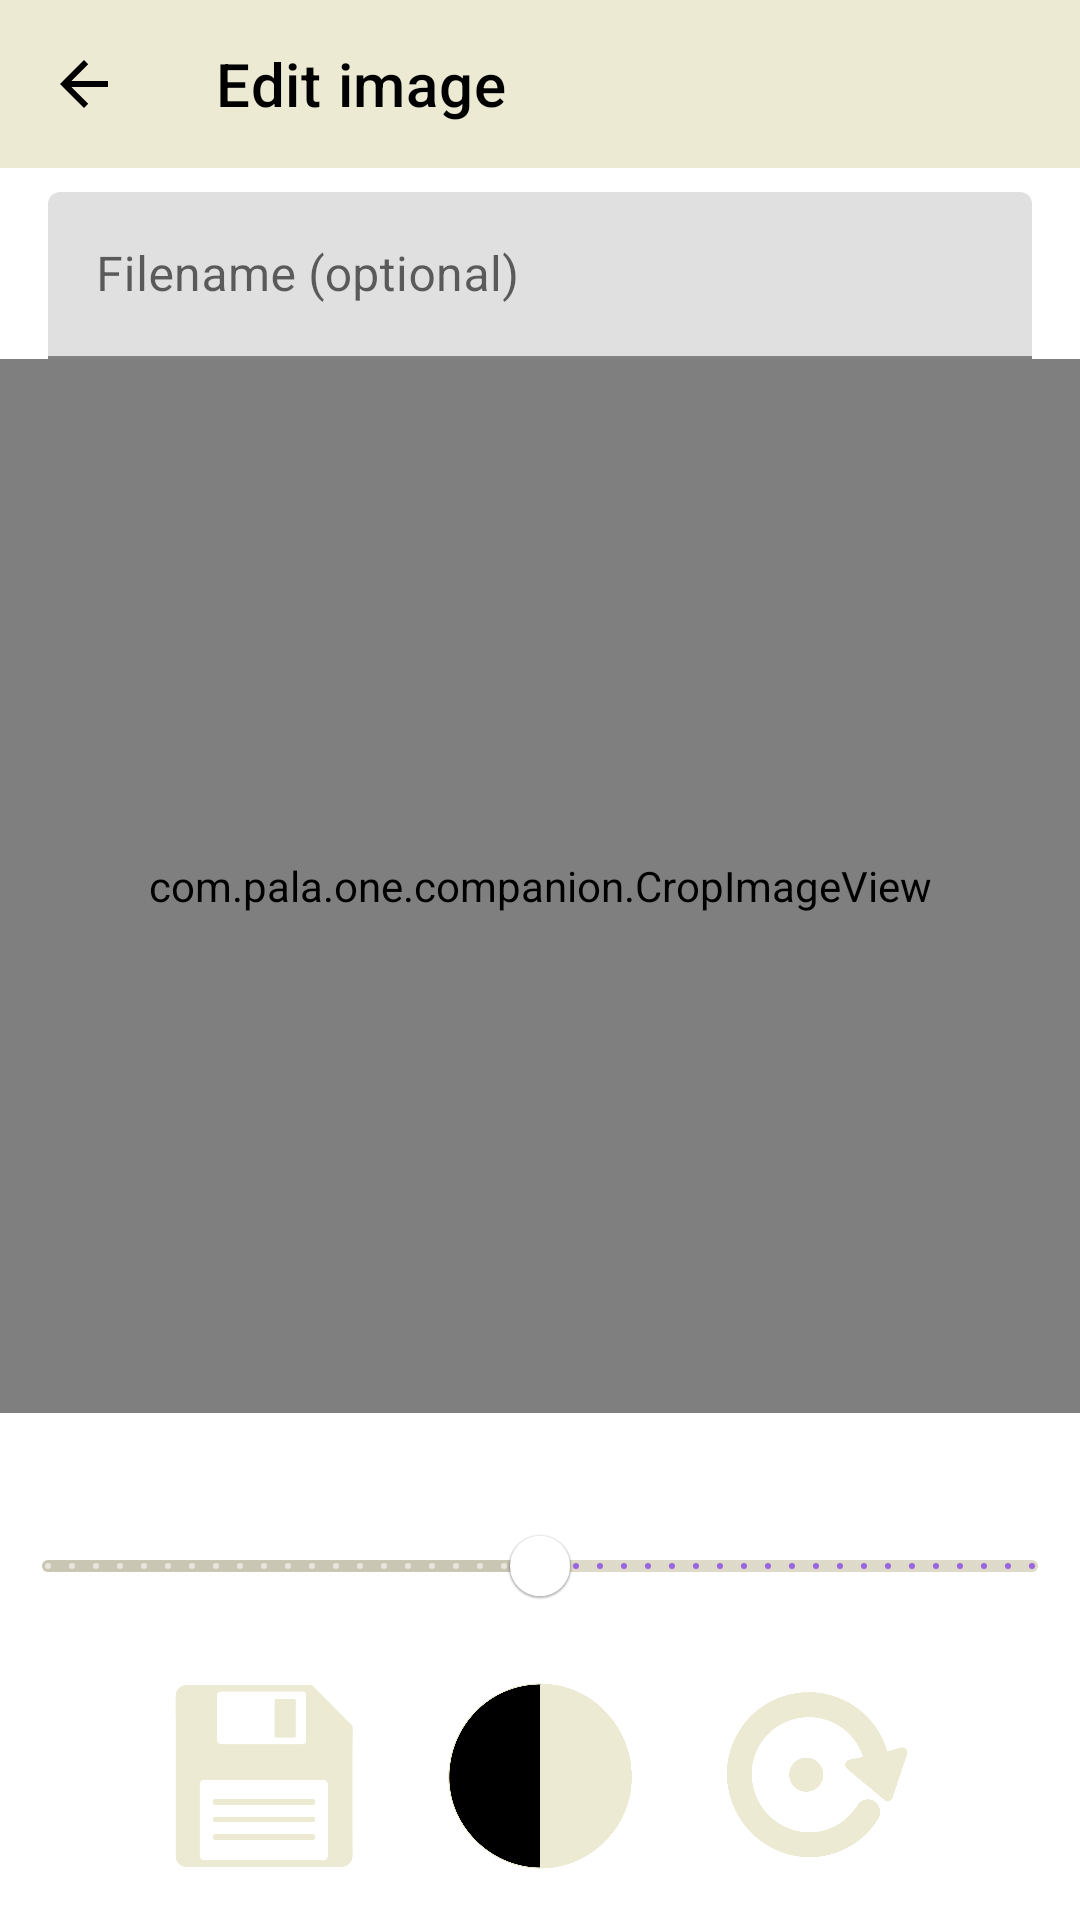

Icon bounding boxes for this 1080px x 1920px phone screenshot, format (x1, y1, x2, y2):
Invert colors: (448, 1683, 632, 1869)
Rotate 90 degrees: (727, 1692, 907, 1857)
Save: (176, 1685, 353, 1867)
